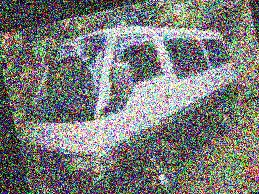van: (0, 6, 259, 194)
